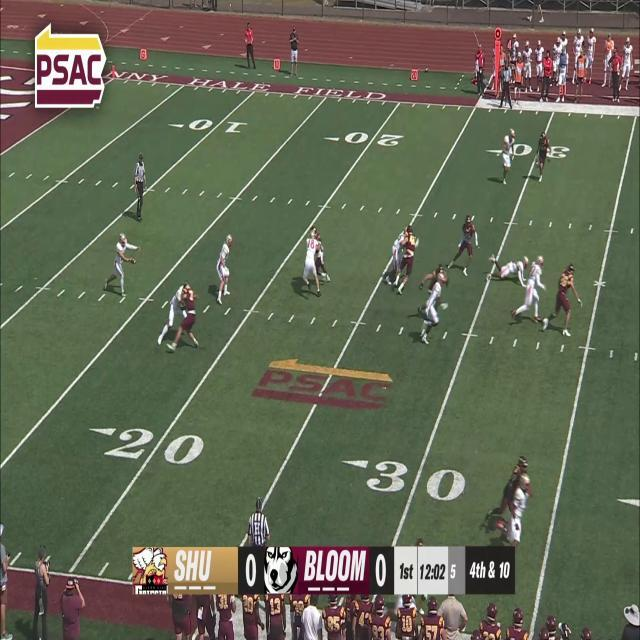football: (130, 256, 136, 265)
